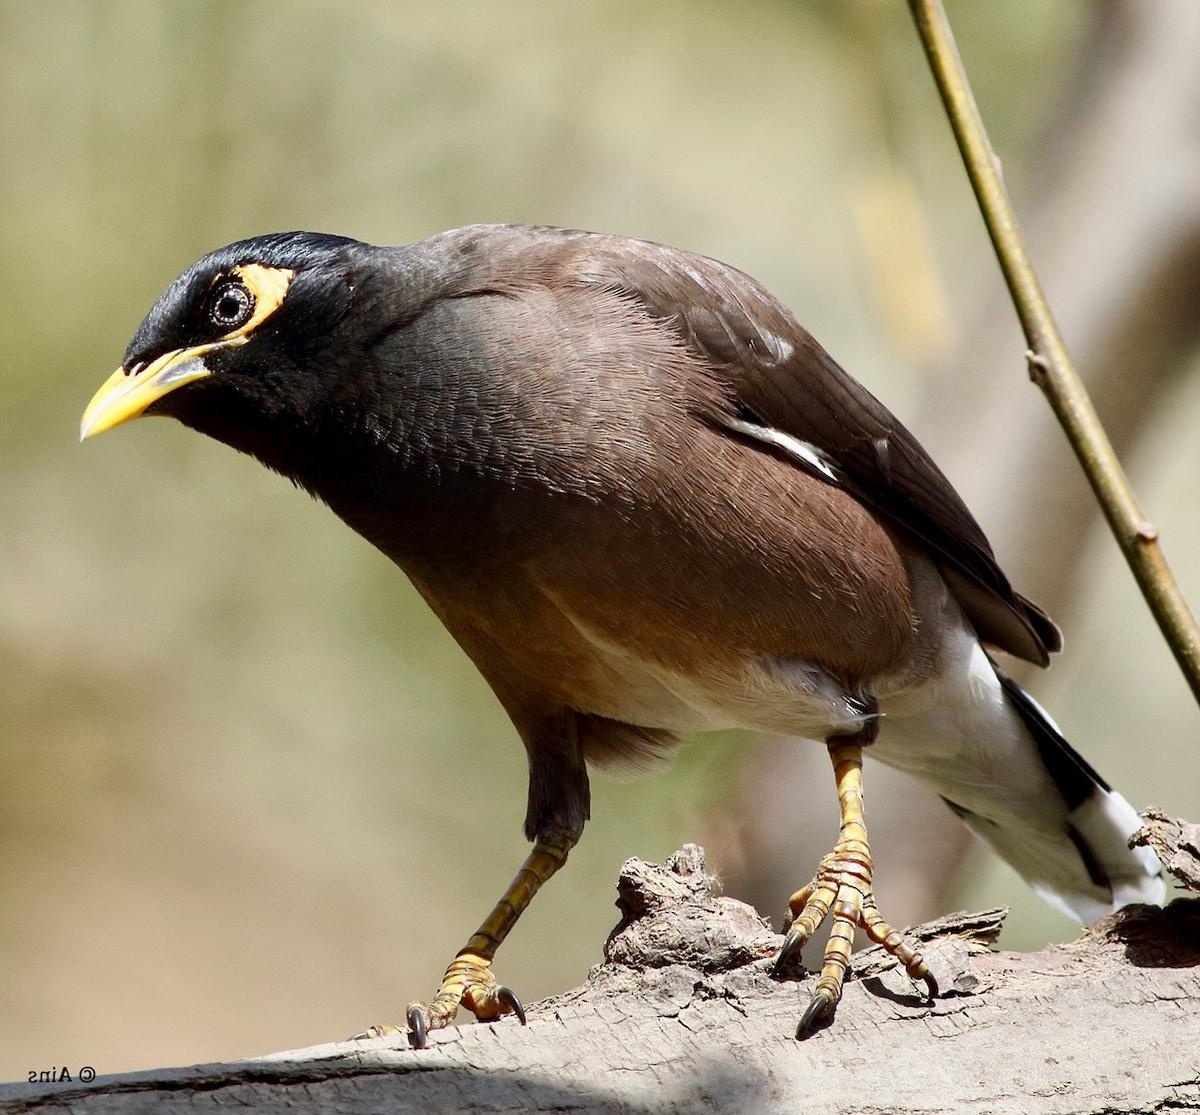myna: (117, 194, 1067, 982)
